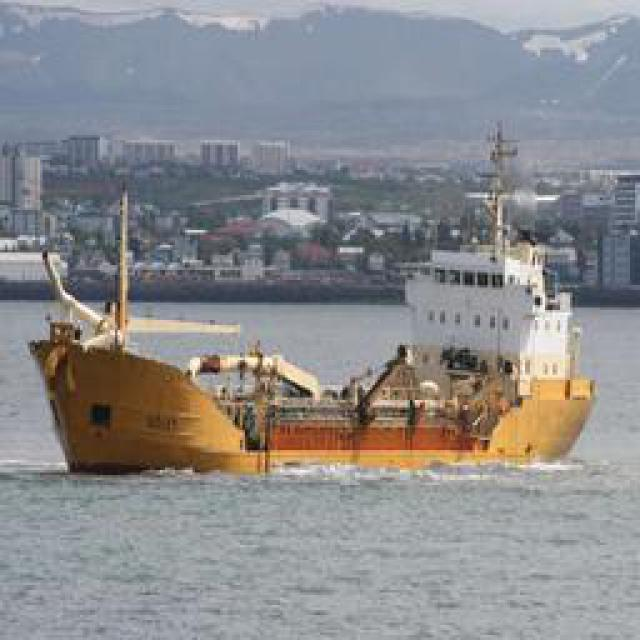Ship: (22, 178, 590, 476)
